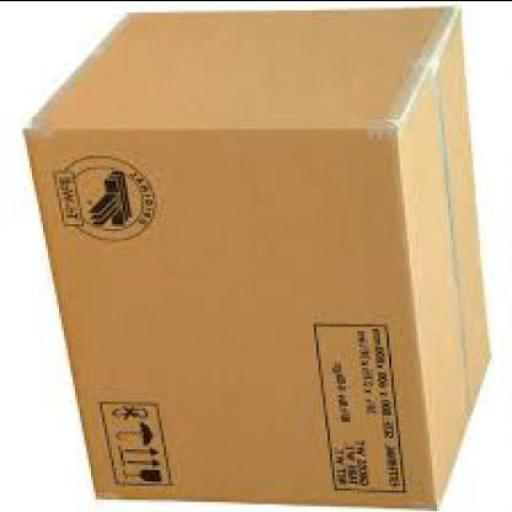cardboard: (22, 9, 492, 510)
